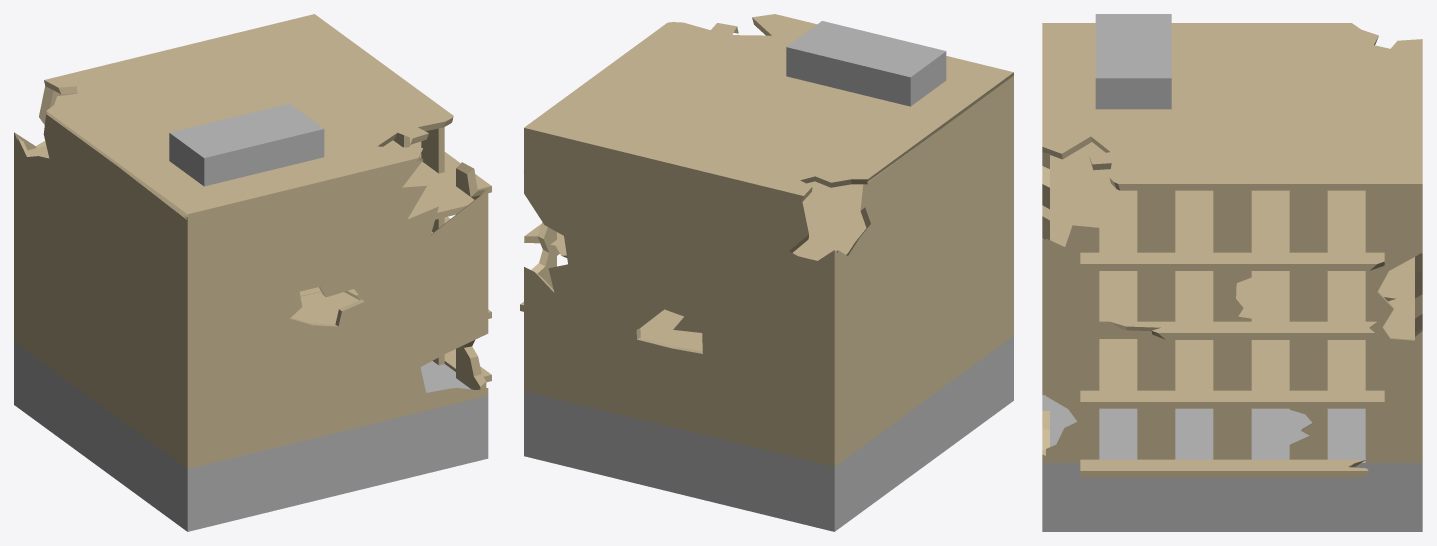
Rendered from FlatDestroyed.fbx.
The picture shows the model from 3 angles, left to right: view 1: azimuth 30°, elevation 25°; view 2: azimuth 150°, elevation 25°; view 3: azimuth 270°, elevation 25°; orthographic projection. The views are drawn at different scales.
Visible parts, largest first — view 1: Cube.006, Cube.004, Cube.007, Cube, Cube.025, Cube.003, Cube.010, Cube.005, Cube.001, Cube.009; view 2: Cube.005, Cube.004, Cube.007, Cube, Cube.025, Cube.003, Cube.001, Cube.006, Cube.012; view 3: Cube.004, Cube, Cube.003, Cube.012, Cube.010, Cube.002, Cube.009, Cube.001, Cube.008, Cube.011, Cube.025, Cube.026 (+6 smaller).
Boxes of the visible parts, x1=… form: Cube.006: x1=184, y1=157, x2=488, y2=468; Cube.004: x1=44, y1=14, x2=453, y2=220; Cube.007: x1=17, y1=114, x2=184, y2=466; Cube: x1=14, y1=342, x2=488, y2=531; Cube.025: x1=169, y1=103, x2=324, y2=186; Cube.003: x1=28, y1=140, x2=474, y2=219; Cube.010: x1=456, y1=162, x2=486, y2=389; Cube.005: x1=14, y1=86, x2=76, y2=344; Cube.001: x1=291, y1=291, x2=358, y2=324; Cube.009: x1=421, y1=127, x2=444, y2=365; Cube.005: x1=524, y1=131, x2=837, y2=466; Cube.004: x1=524, y1=14, x2=1013, y2=201; Cube.007: x1=836, y1=78, x2=1010, y2=463; Cube: x1=524, y1=336, x2=1013, y2=531; Cube.025: x1=786, y1=21, x2=946, y2=106; Cube.003: x1=793, y1=181, x2=866, y2=264; Cube.001: x1=640, y1=309, x2=702, y2=351; Cube.006: x1=1010, y1=76, x2=1013, y2=337; Cube.012: x1=531, y1=222, x2=556, y2=289; Cube.004: x1=1042, y1=23, x2=1422, y2=190; Cube: x1=1042, y1=395, x2=1422, y2=531; Cube.003: x1=1050, y1=142, x2=1365, y2=249; Cube.012: x1=1365, y1=187, x2=1418, y2=462; Cube.010: x1=1046, y1=225, x2=1099, y2=462; Cube.002: x1=1099, y1=257, x2=1414, y2=318; Cube.009: x1=1137, y1=187, x2=1175, y2=459; Cube.001: x1=1099, y1=302, x2=1414, y2=387; Cube.008: x1=1213, y1=187, x2=1251, y2=459; Cube.011: x1=1289, y1=187, x2=1327, y2=459; Cube.025: x1=1095, y1=14, x2=1171, y2=109; Cube.026: x1=1080, y1=390, x2=1384, y2=408.
Bounding box in the file's own units: 1070 × 1100 × 1000.
